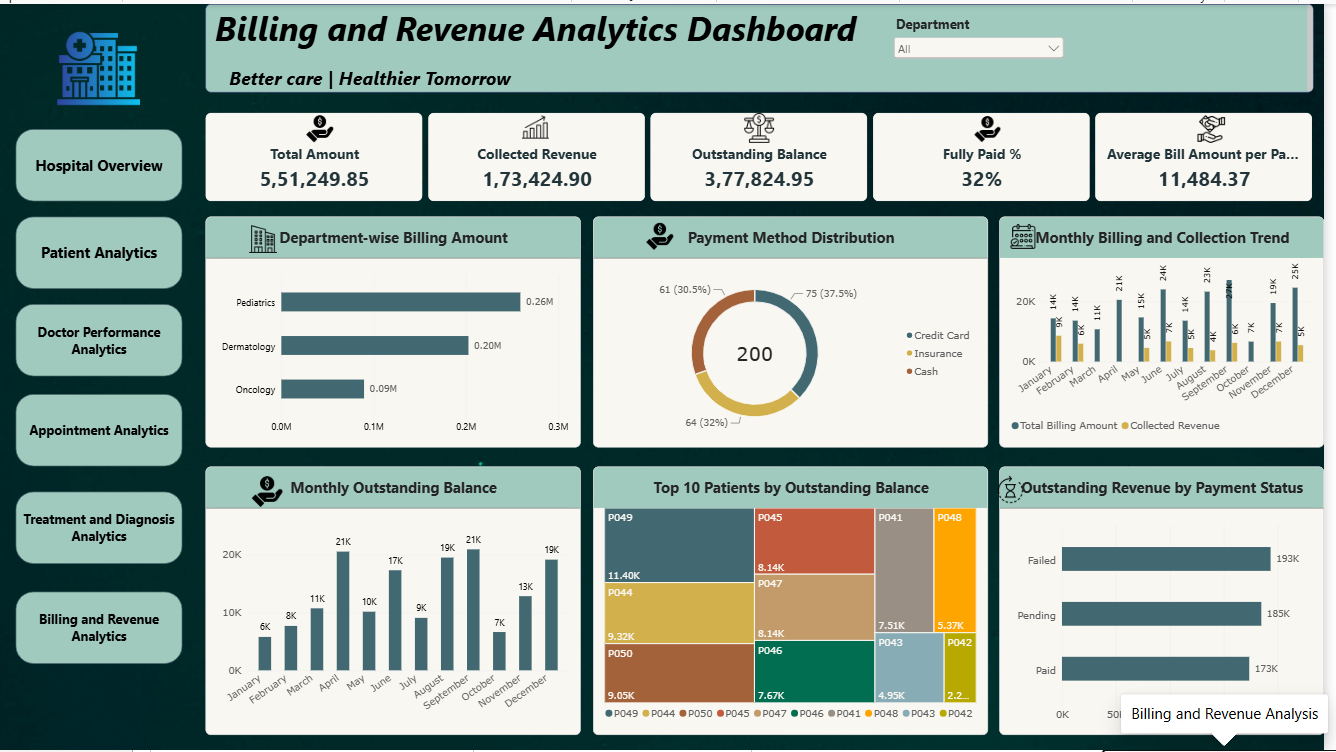

The page's visual inventory and layout, read from the dashboard file:
{"tool":"powerbi","page":{"name":"Billing and Revenue Analysis","canvas":[1920,1080],"ordinal":5},"visuals":[{"type":"textbox","box":[300,0,1604,128],"z":0},{"type":"shape","box":[25.3,181,241.8,104.8],"z":1000},{"type":"shape","box":[25.3,307.6,241.8,104.8],"z":2000},{"type":"shape","box":[25.3,434.3,241.8,104.8],"z":3000},{"type":"shape","box":[25.3,564.6,241.8,104.8],"z":4000},{"type":"shape","box":[25.3,705.8,241.8,104.8],"z":5000},{"type":"image","box":[77.8,29,135.7,128.5],"z":6000},{"type":"shape","box":[25.3,850.5,241.8,104.8],"z":7000},{"type":"cardVisual","fields":{"Data":["Sum(billing.amount)","Calendar.Collected Revenue","Calendar.Outstanding Balance","billing.Fully Paid %","Calendar.Average Bill per Patient"]},"box":[300.4,157.4,1603.4,128.5],"z":8000},{"type":"clusteredBarChart","title":"Department-wise Billing Amount","fields":{"Category":["doctors.specialization"],"Y":["Calendar.Total Billing Amount"]},"box":[300.4,307.6,542.9,334.8],"z":9000},{"type":"donutChart","title":"Payment Method Distribution","fields":{"Category":["billing.payment_method"],"Y":["CountNonNull(billing.bill_id)"]},"box":[861.4,307.6,571.9,334.8],"z":10000},{"type":"lineClusteredColumnComboChart","title":"Monthly Billing and Collection Trend","fields":{"Category":["billing.bill_date.Variation.Date Hierarchy.Month"],"Y":["Calendar.Total Billing Amount","Calendar.Collected Revenue"]},"box":[1449.5,307.6,470.5,334.8],"z":11000},{"type":"clusteredColumnChart","title":"Monthly Outstanding Balance","fields":{"Category":["billing.bill_date.Variation.Date Hierarchy.Month"],"Y":["Calendar.Outstanding Balance"]},"box":[300.4,669.6,542.9,389.1],"z":12000},{"type":"treemap","title":"Top 10 Patients by Outstanding Balance","fields":{"Group":["patients.patient_id"],"Values":["Calendar.Patient Outstanding"]},"box":[861,670,572,389],"z":13000},{"type":"barChart","title":"Outstanding Revenue by Payment Status","fields":{"Category":["billing.payment_status"],"Y":["Sum(billing.amount)"]},"box":[1450,670,470,389],"z":14000},{"type":"slicer","fields":{"Values":["doctors.specialization"]},"box":[1292.1,16.3,255.1,95],"z":15000},{"type":"image","box":[1398.9,161.1,67,39.8],"z":15003},{"type":"image","box":[1080.4,139.3,43.4,79.6],"z":15004},{"type":"image","box":[445.2,157.4,41.6,47.1],"z":15005},{"type":"image","box":[749.2,157.4,57.9,41.6],"z":15006},{"type":"image","box":[1710.1,161.1,92.3,39.8],"z":15007},{"type":"image","box":[356.5,320.3,54.3,39.8],"z":15008},{"type":"image","box":[937.4,313.1,41.6,47.1],"z":15009},{"type":"image","box":[1465.8,318.5,36.2,36.2],"z":15010},{"type":"image","box":[356.5,682.2,67,47.1],"z":15011},{"type":"image","box":[1440.5,676.8,50.7,52.5],"z":15012}]}

Visuals, with their boxes in screenshot pixels (x1, y1, x2, y2), scaled from the page's 1920x1080 canvas onto the 1336x752 screenshot:
textbox: left=209, top=0, right=1325, bottom=89
shape: left=18, top=126, right=186, bottom=199
shape: left=18, top=214, right=186, bottom=287
shape: left=18, top=302, right=186, bottom=375
shape: left=18, top=393, right=186, bottom=466
shape: left=18, top=491, right=186, bottom=564
image: left=54, top=20, right=149, bottom=110
shape: left=18, top=592, right=186, bottom=665
cardVisual - Sum(billing.amount) x Calendar.Collected Revenue: left=209, top=110, right=1325, bottom=199
"Department-wise Billing Amount" clusteredBarChart: left=209, top=214, right=587, bottom=447
"Payment Method Distribution" donutChart: left=599, top=214, right=997, bottom=447
"Monthly Billing and Collection Trend" lineClusteredColumnComboChart: left=1009, top=214, right=1335, bottom=447
"Monthly Outstanding Balance" clusteredColumnChart: left=209, top=466, right=587, bottom=737
"Top 10 Patients by Outstanding Balance" treemap: left=599, top=467, right=997, bottom=737
"Outstanding Revenue by Payment Status" barChart: left=1009, top=467, right=1335, bottom=737
slicer - doctors.specialization: left=899, top=11, right=1077, bottom=77
image: left=973, top=112, right=1020, bottom=140
image: left=752, top=97, right=782, bottom=152
image: left=310, top=110, right=339, bottom=142
image: left=521, top=110, right=562, bottom=139
image: left=1190, top=112, right=1254, bottom=140
image: left=248, top=223, right=286, bottom=251
image: left=652, top=218, right=681, bottom=251
image: left=1020, top=222, right=1045, bottom=247
image: left=248, top=475, right=295, bottom=508
image: left=1002, top=471, right=1038, bottom=508
